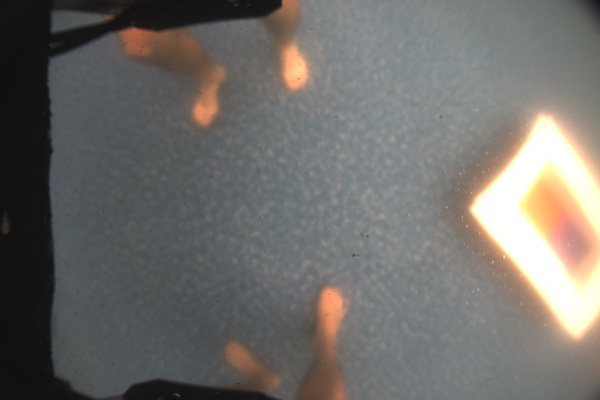bin: (370, 91, 588, 323)
bin_bleue: (476, 148, 540, 216)
bin_rouge: (434, 174, 506, 250)
path: (580, 72, 600, 114)
